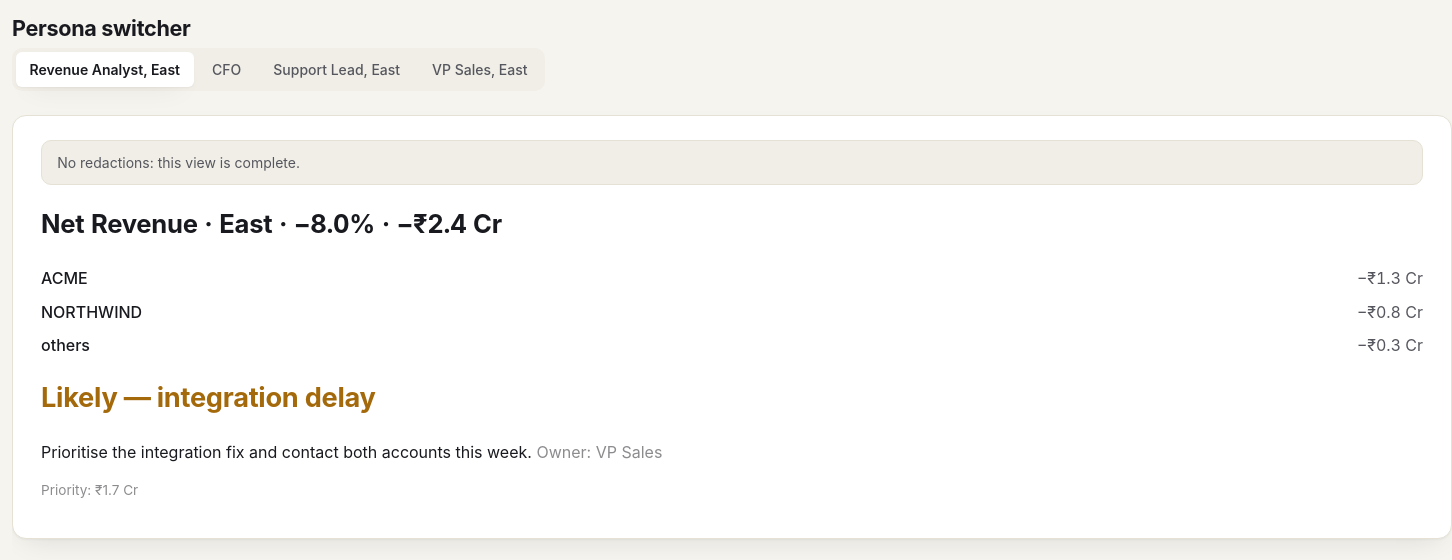
Test case: PersonaSwitcher — Screen 4, §11: masked names, banded ₹, stated redaction › the Support Lead sees banded amounts, masked accounts, and the redaction stated
Click the tab "Support Lead, East".
click(337, 69)  # box [260, 52, 414, 87]
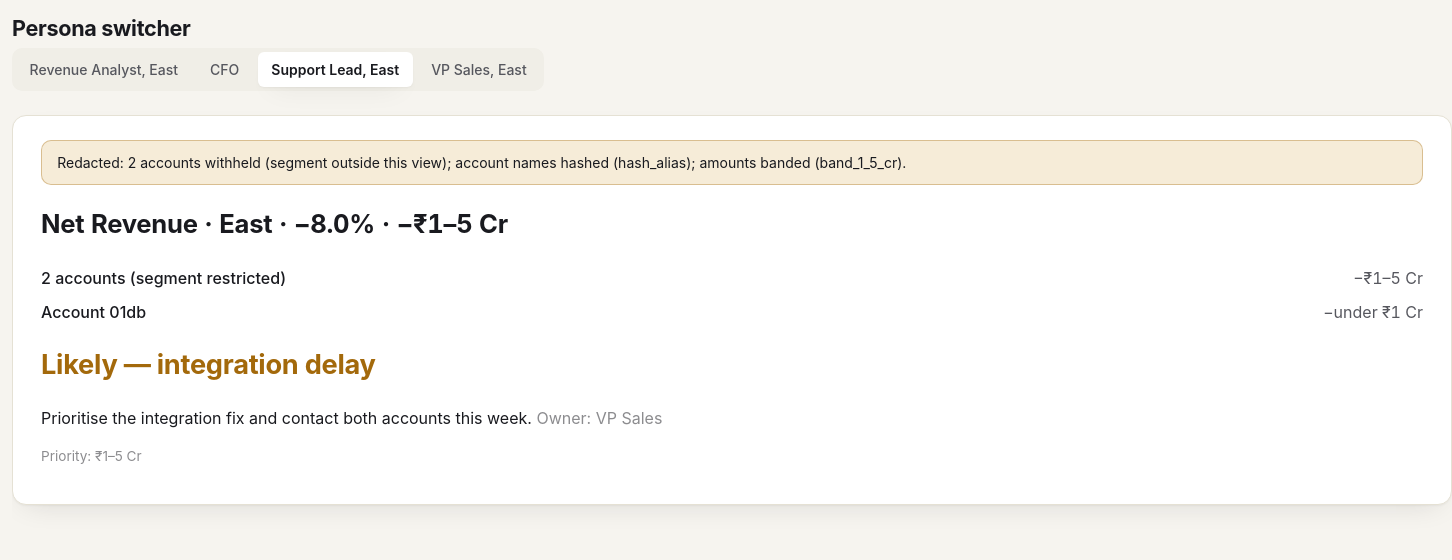
Expected: the text with test id "redaction-statement" shows "withheld", [57, 154, 906, 171]
Expected: the text with test id "redaction-statement" shows "hashed", [57, 154, 906, 171]
Expected: the text with test id "redaction-statement" shows "banded", [57, 154, 906, 171]
